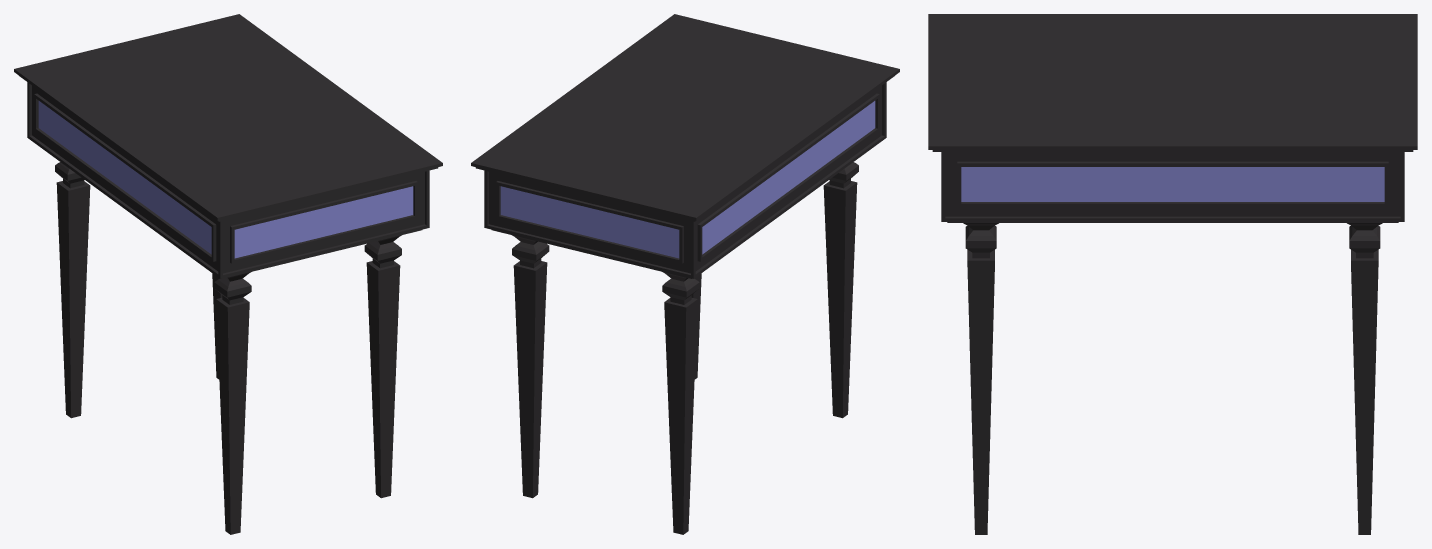
File: endTable.dae
3 renders of one model, left to right at view 1: azimuth 30°, elevation 25°; view 2: azimuth 150°, elevation 25°; view 3: azimuth 270°, elevation 25°, orthographic. The views are drawn at different scales.
Parts seen in each view (by area): view 1: endTable_Cube; view 2: endTable_Cube; view 3: endTable_Cube.
Boxes of the visible parts, box(x1,y1,x2,y2) form: endTable_Cube: box(14, 14, 442, 534); endTable_Cube: box(471, 14, 899, 534); endTable_Cube: box(928, 14, 1417, 534).
Bounding box in the file's own units: 1.57 × 2.46 × 2.27.
